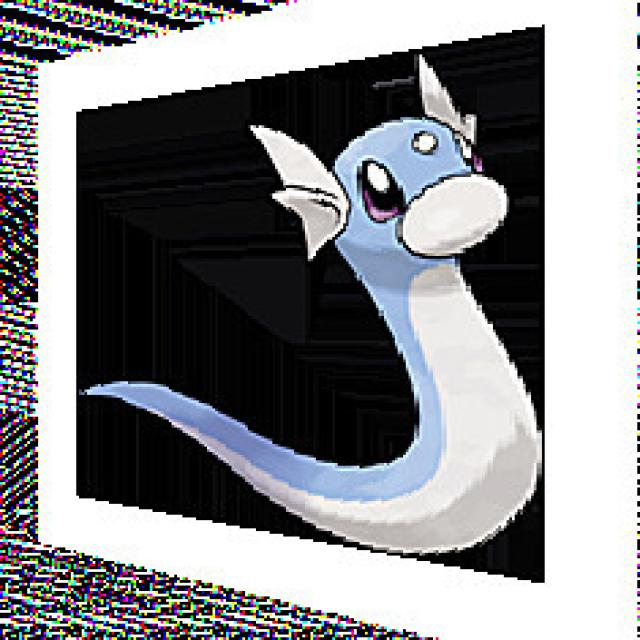Dratini: (242, 83, 538, 540)
